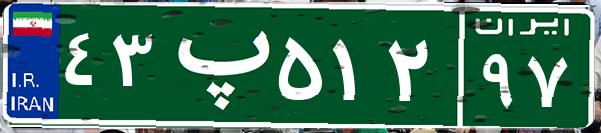1: (330, 28, 385, 110)
2: (385, 28, 445, 110)
3: (110, 28, 158, 105)
4: (57, 26, 110, 107)
5: (273, 28, 330, 110)
7: (525, 38, 570, 115)
9: (475, 38, 525, 113)
پ: (158, 15, 273, 115)
